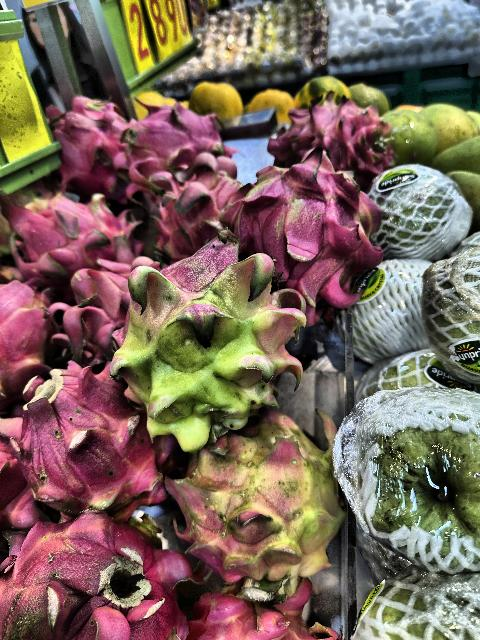buah-naga-belum-matang: (120, 234, 302, 452), (160, 432, 346, 592), (218, 156, 384, 312)
buah-naga-matang: (0, 358, 170, 516), (0, 518, 190, 640), (0, 185, 148, 271), (263, 92, 387, 184), (54, 248, 152, 356), (122, 98, 234, 184), (42, 88, 132, 194), (147, 148, 243, 245), (1, 274, 57, 418)
